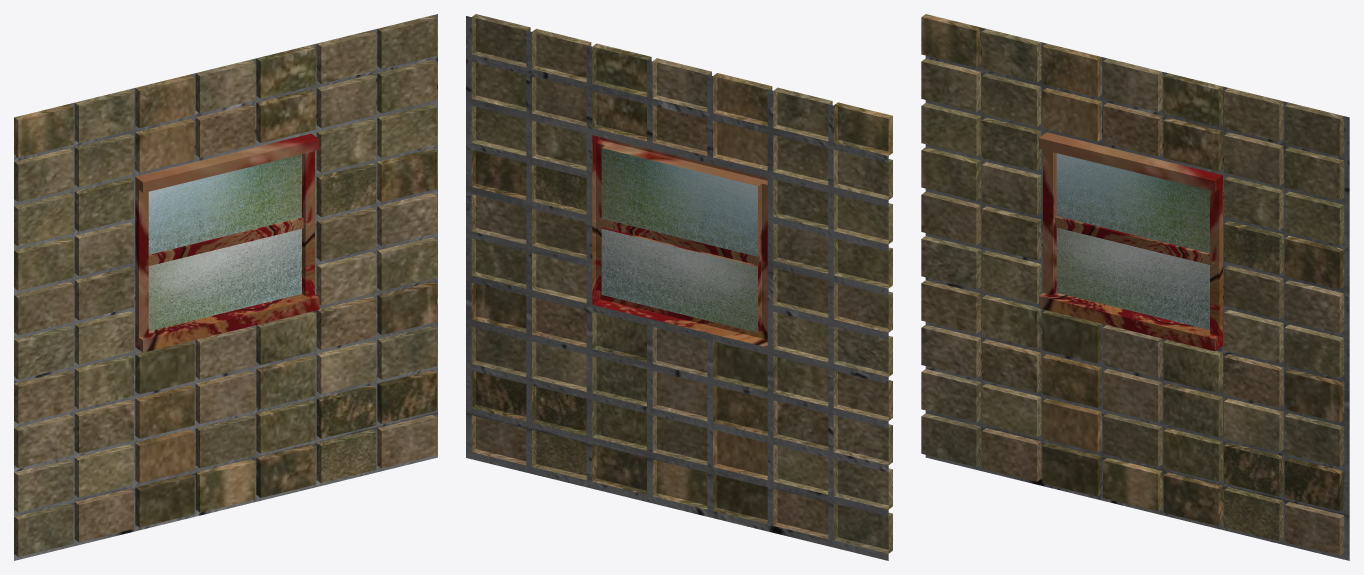
Rendered from Pared_018.fbx.
3 views of the same model, side by side, from view 1: azimuth 30°, elevation 25°; view 2: azimuth 150°, elevation 25°; view 3: azimuth 330°, elevation 25° (orthographic).
Visible parts, largest first — view 1: Plane; view 2: Plane; view 3: Plane.
Boxes of the visible parts, box(x1,y1,x2,y2) form: Plane: box(14, 14, 437, 560); Plane: box(466, 14, 892, 560); Plane: box(921, 14, 1349, 560).
Bounding box in the file's own units: 600 × 600 × 19.49.
